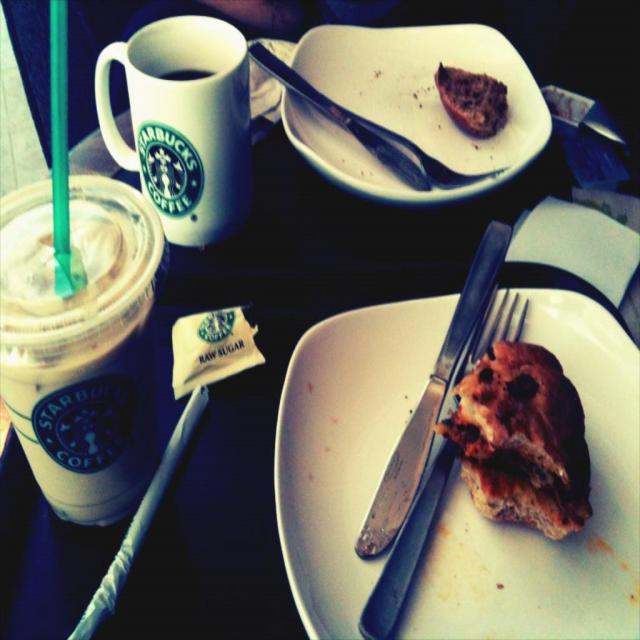Coffee: (100, 5, 256, 239)
Tea: (154, 66, 217, 79)
